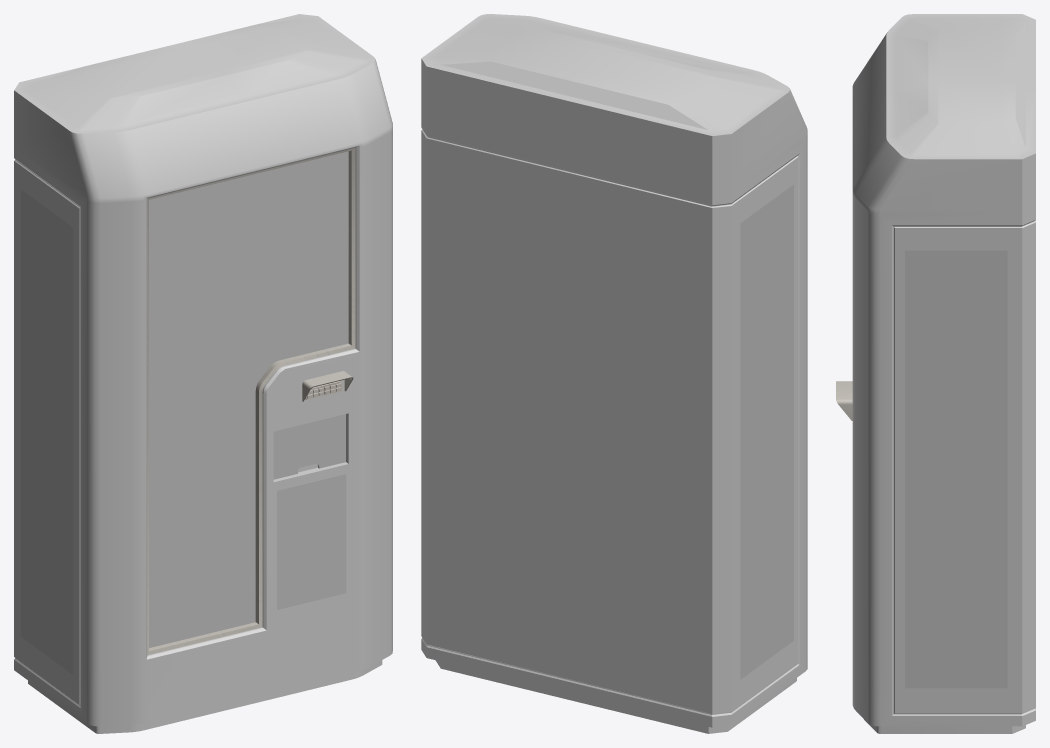
The model's file is KB3D_CBP_VendingMachine_D.fbx.
3 renders of one model, left to right at view 1: azimuth 30°, elevation 25°; view 2: azimuth 150°, elevation 25°; view 3: azimuth 270°, elevation 25°, orthographic. The views are drawn at different scales.
Parts seen in each view (by area): view 1: KB3D_CBP_VendingMachine_D_Main; view 2: KB3D_CBP_VendingMachine_D_Main; view 3: KB3D_CBP_VendingMachine_D_Main.
Part boxes in pixels (x1=…): KB3D_CBP_VendingMachine_D_Main: x1=14, y1=14, x2=392, y2=733; KB3D_CBP_VendingMachine_D_Main: x1=421, y1=14, x2=807, y2=733; KB3D_CBP_VendingMachine_D_Main: x1=836, y1=14, x2=1035, y2=733.
Size of the model in its own units: 117 by 221 by 67.92.
